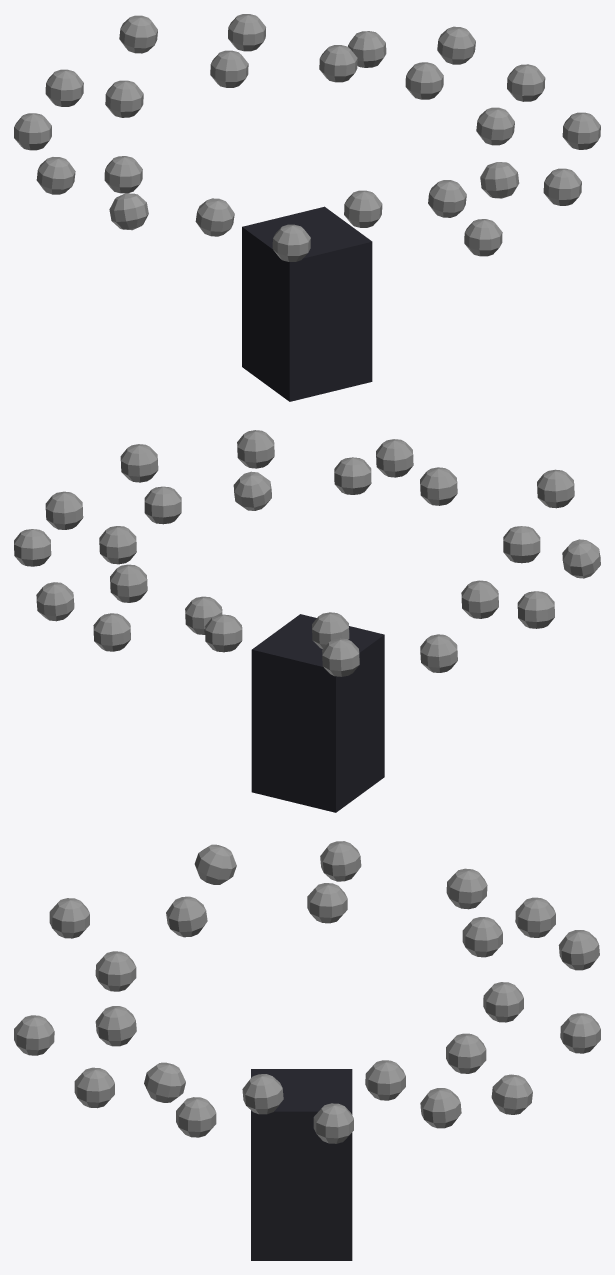
File: Ast1.gltf
3 renders of one model, top to bottom at view 1: azimuth 30°, elevation 25°; view 2: azimuth 150°, elevation 25°; view 3: azimuth 270°, elevation 25°, orthographic. The views are drawn at different scales.
Parts seen in each view (by area): view 1: sphere, cube; view 2: sphere, cube; view 3: sphere, cube.
Part boxes in pixels (x1=…): sphere: x1=14, y1=14, x2=600, y2=261; cube: x1=242, y1=206, x2=372, y2=401; sphere: x1=14, y1=430, x2=600, y2=676; cube: x1=251, y1=614, x2=384, y2=812; sphere: x1=14, y1=841, x2=600, y2=1143; cube: x1=251, y1=1069, x2=352, y2=1260.
Bounding box in the file's own units: 0.9439 × 0.4889 × 0.9032.
Materials: 2 (2 with a texture image).
